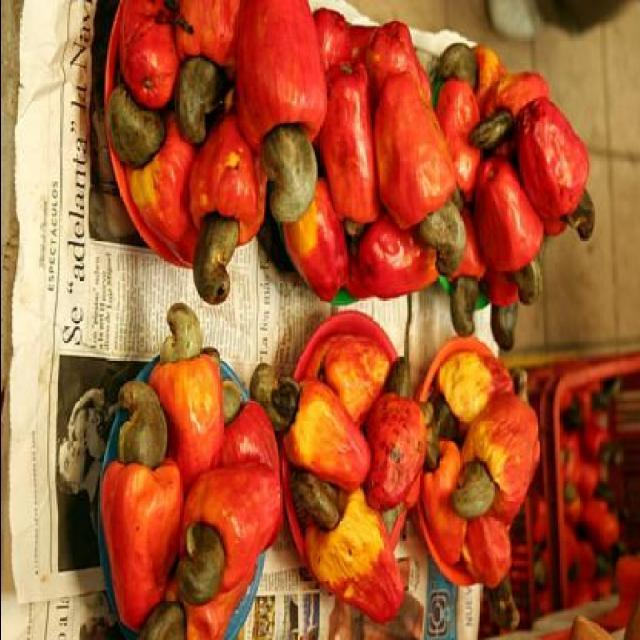Bell pepper: (103, 0, 320, 308), (251, 288, 427, 628), (102, 306, 276, 638), (282, 3, 460, 299), (435, 44, 597, 348), (417, 348, 534, 628)
